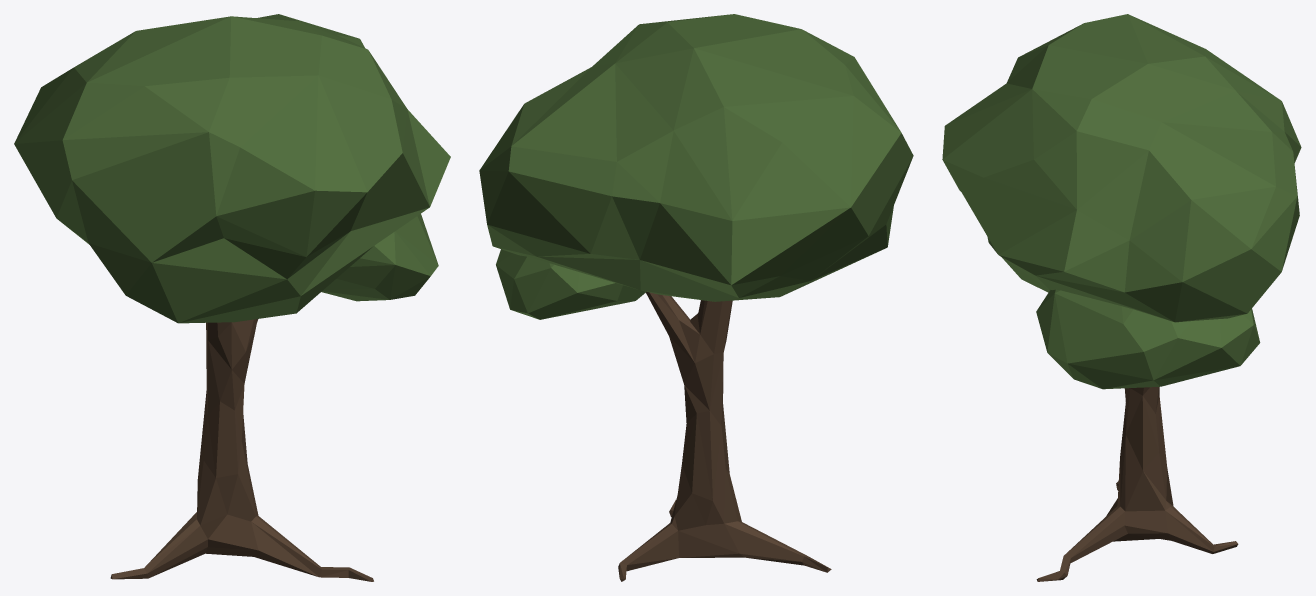
File: SM_Envr_Nature_Farm_Tree_Apple_Young.fbx
3 views of the same model, side by side, from view 1: azimuth 30°, elevation 25°; view 2: azimuth 150°, elevation 25°; view 3: azimuth 270°, elevation 25° (orthographic). The views are drawn at different scales.
Visible parts, largest first — view 1: SM_Envr_Nature_Farm_Tree_Apple_Young; view 2: SM_Envr_Nature_Farm_Tree_Apple_Young; view 3: SM_Envr_Nature_Farm_Tree_Apple_Young.
Boxes of the visible parts, box(x1,y1,x2,y2) form: SM_Envr_Nature_Farm_Tree_Apple_Young: box(14, 14, 450, 581); SM_Envr_Nature_Farm_Tree_Apple_Young: box(479, 14, 913, 581); SM_Envr_Nature_Farm_Tree_Apple_Young: box(942, 14, 1301, 581).
Size of the model in its own units: 473 by 644 by 432.
